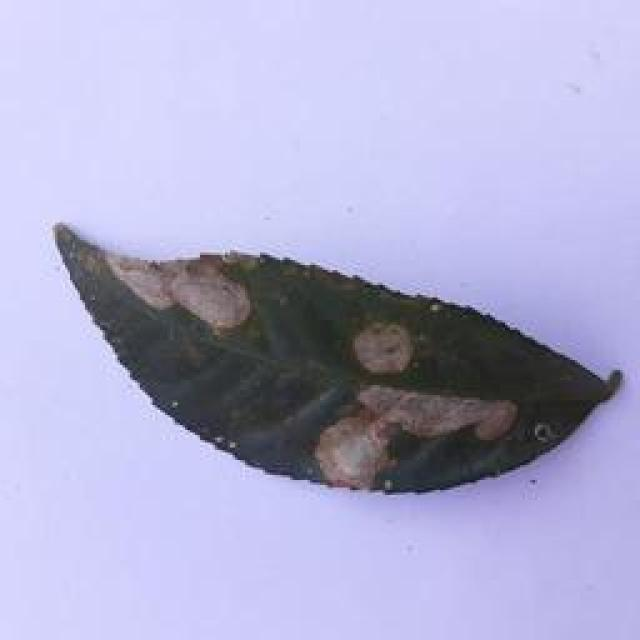Gray Blight: (53, 219, 626, 499)
